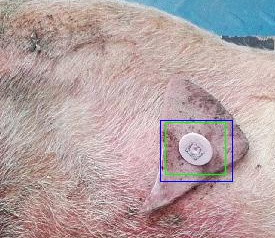text: (165, 122, 225, 174)
